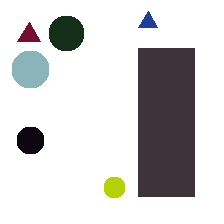circle: (12, 51, 48, 87), (49, 16, 83, 50), (17, 127, 43, 153), (104, 177, 124, 197)
rectangle: (138, 48, 194, 196)
triangle: (17, 22, 40, 41), (138, 11, 157, 27)
